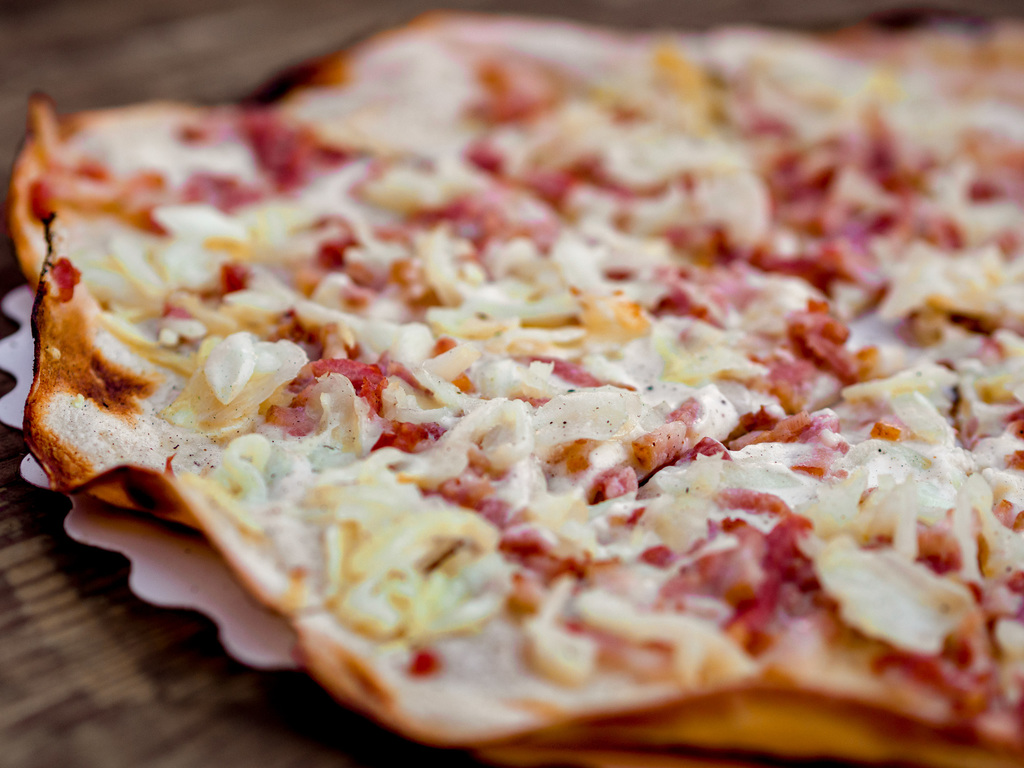Pizza: (10, 9, 1023, 764)
